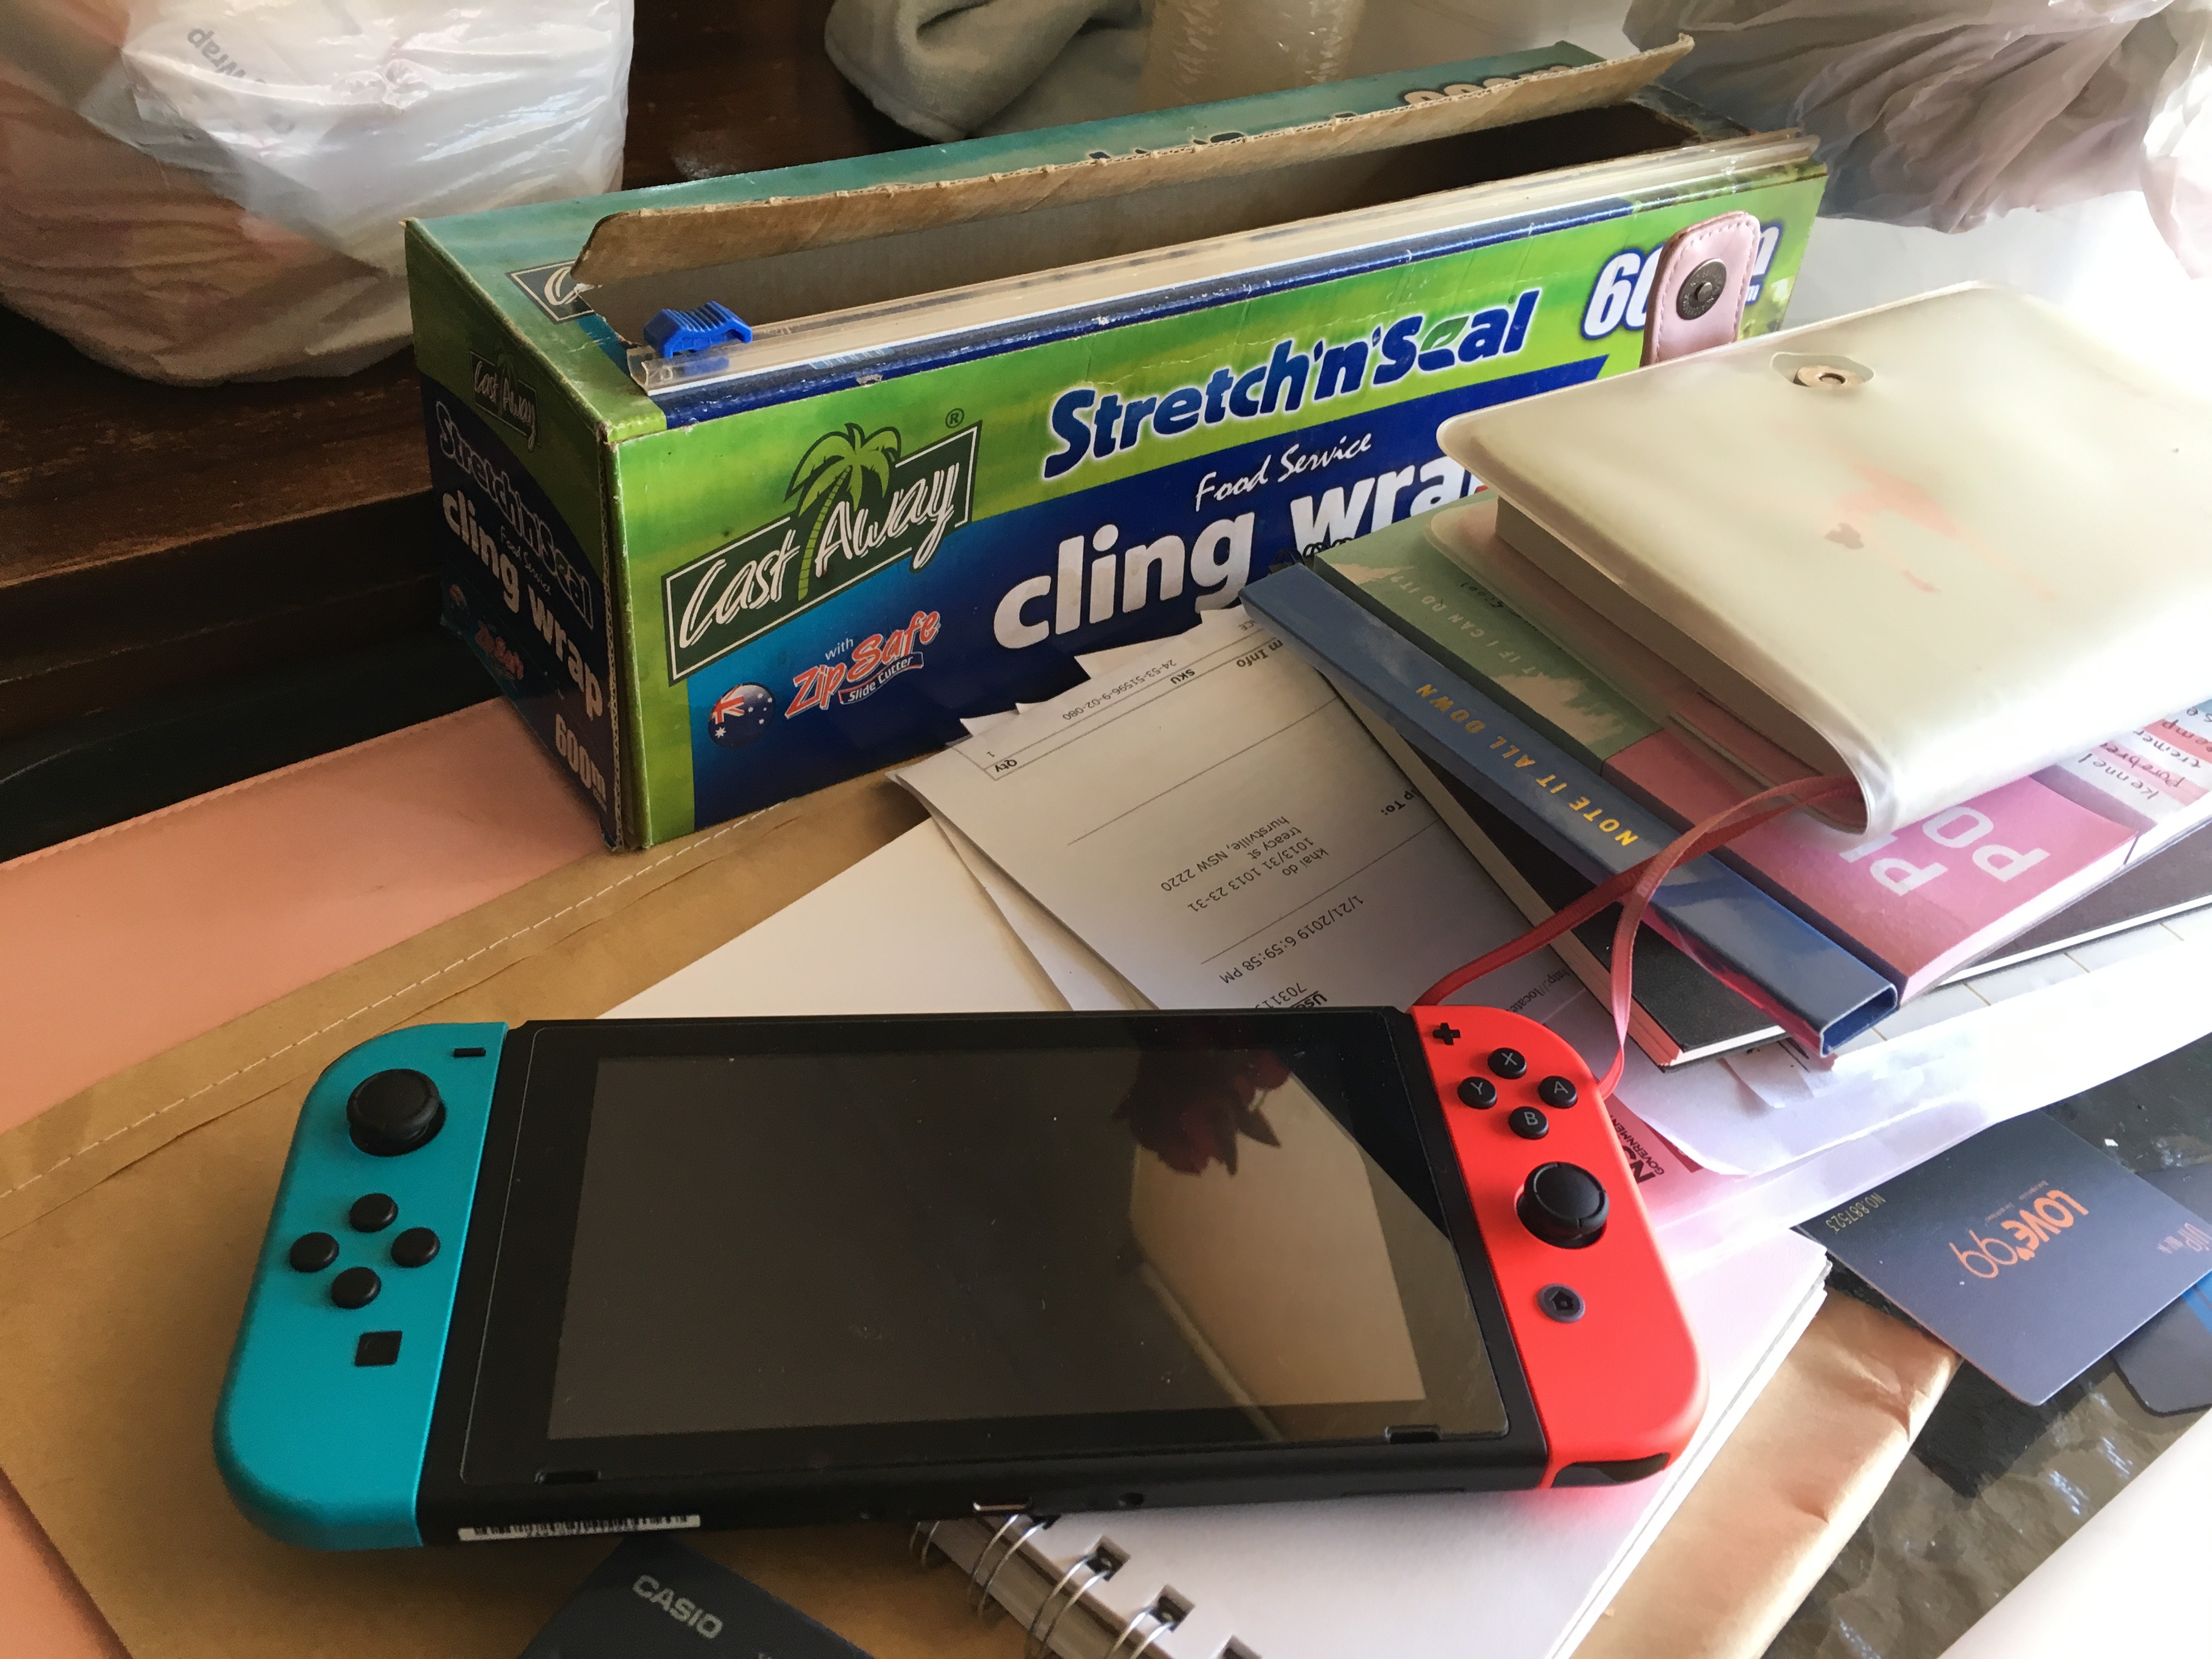NintendoSwitch: (193, 990, 1737, 1579)
